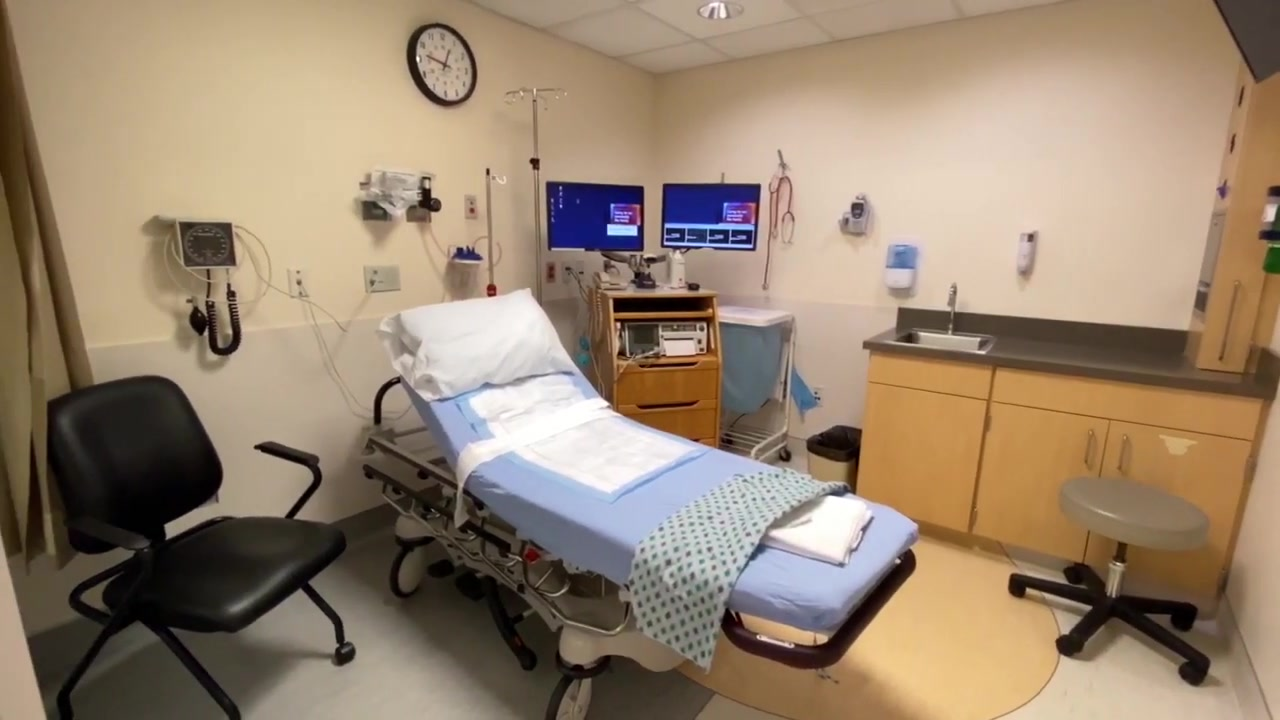cabinet: (863, 325, 1265, 620)
chair: (45, 373, 357, 720), (1008, 474, 1218, 691)
computer: (545, 178, 645, 254), (661, 180, 759, 252)
countertop: (863, 327, 1266, 398)
curtain: (1, 1, 90, 564)
dispenser: (885, 241, 917, 293), (1016, 230, 1039, 275)
drawer: (590, 286, 721, 446)
exam_table: (356, 287, 938, 720)
faucet: (942, 281, 961, 333)
handle: (1072, 423, 1100, 473), (1112, 429, 1138, 478)
infusion_pump: (617, 323, 711, 357)
iv_pole: (505, 80, 567, 306), (473, 163, 509, 296)
sink: (885, 326, 997, 355)
telephone: (591, 270, 630, 294)
waste_bin: (717, 307, 795, 458), (803, 422, 864, 497)
